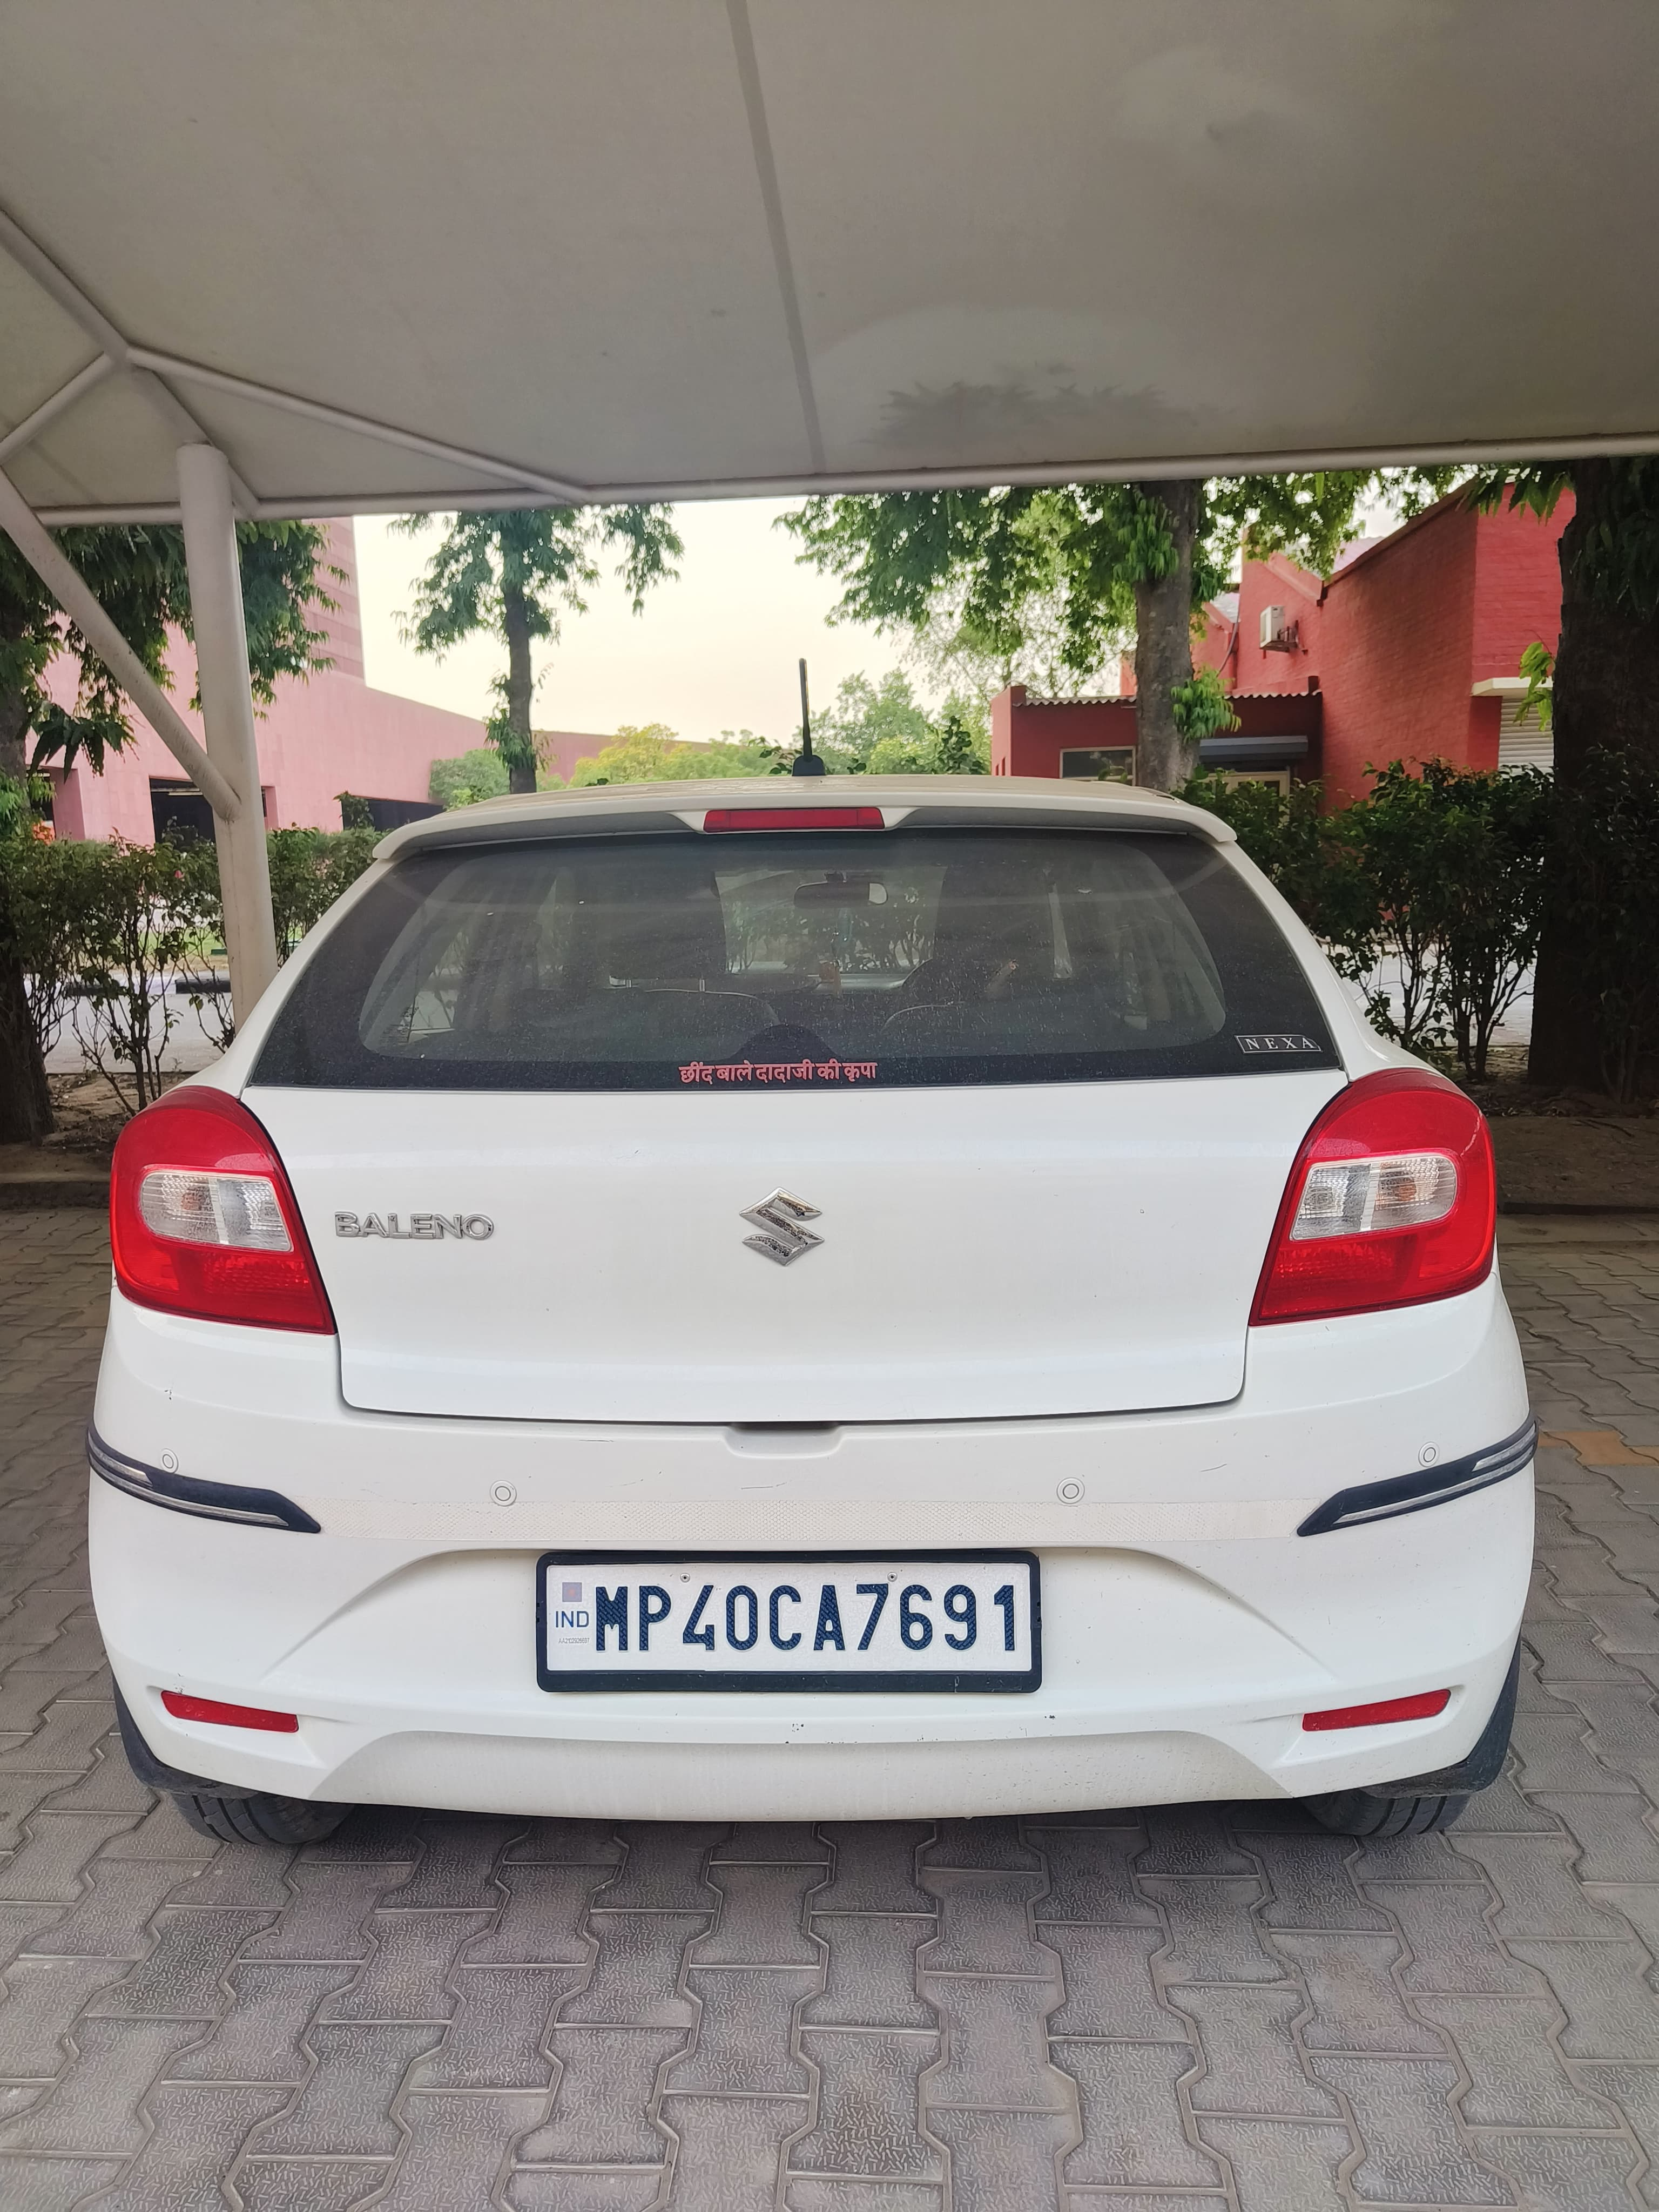license plate: (537, 1550, 1041, 1691)
